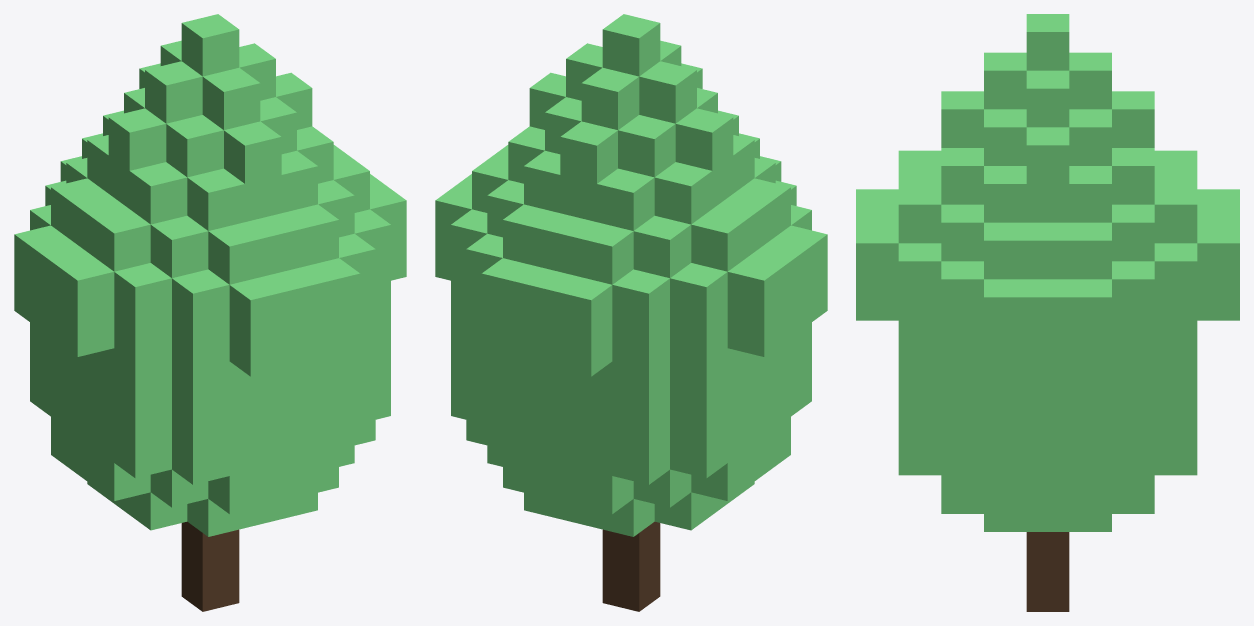
Rendered from tree7.fbx.
3 renders of one model, left to right at view 1: azimuth 30°, elevation 25°; view 2: azimuth 150°, elevation 25°; view 3: azimuth 270°, elevation 25°, orthographic.
Visible parts, largest first — view 1: Sphere.010; view 2: Sphere.010; view 3: Sphere.010.
Part boxes in pixels (bbox=[...]): Sphere.010: bbox=[14, 14, 406, 611]; Sphere.010: bbox=[435, 14, 827, 611]; Sphere.010: bbox=[856, 14, 1239, 611].
Size of the model in its own units: 873 by 1455 by 873.
